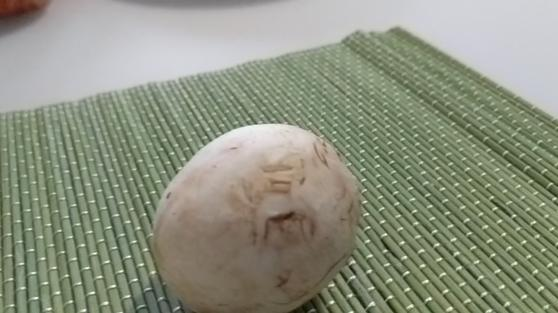champignon: (152, 122, 360, 313)
